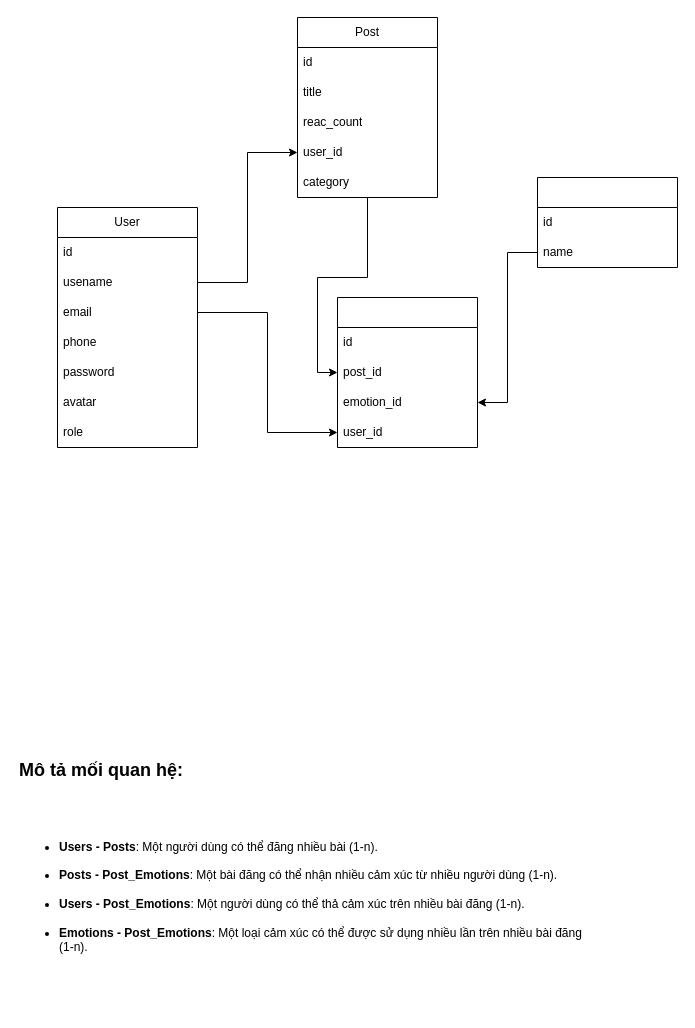
Some shapes in this 695 by 1028 pixel diagram are drawn without their labels. Each missing label, with the box of its shape:
Emotion: (536, 176, 678, 268)
Post_Emotions: (336, 296, 478, 448)
